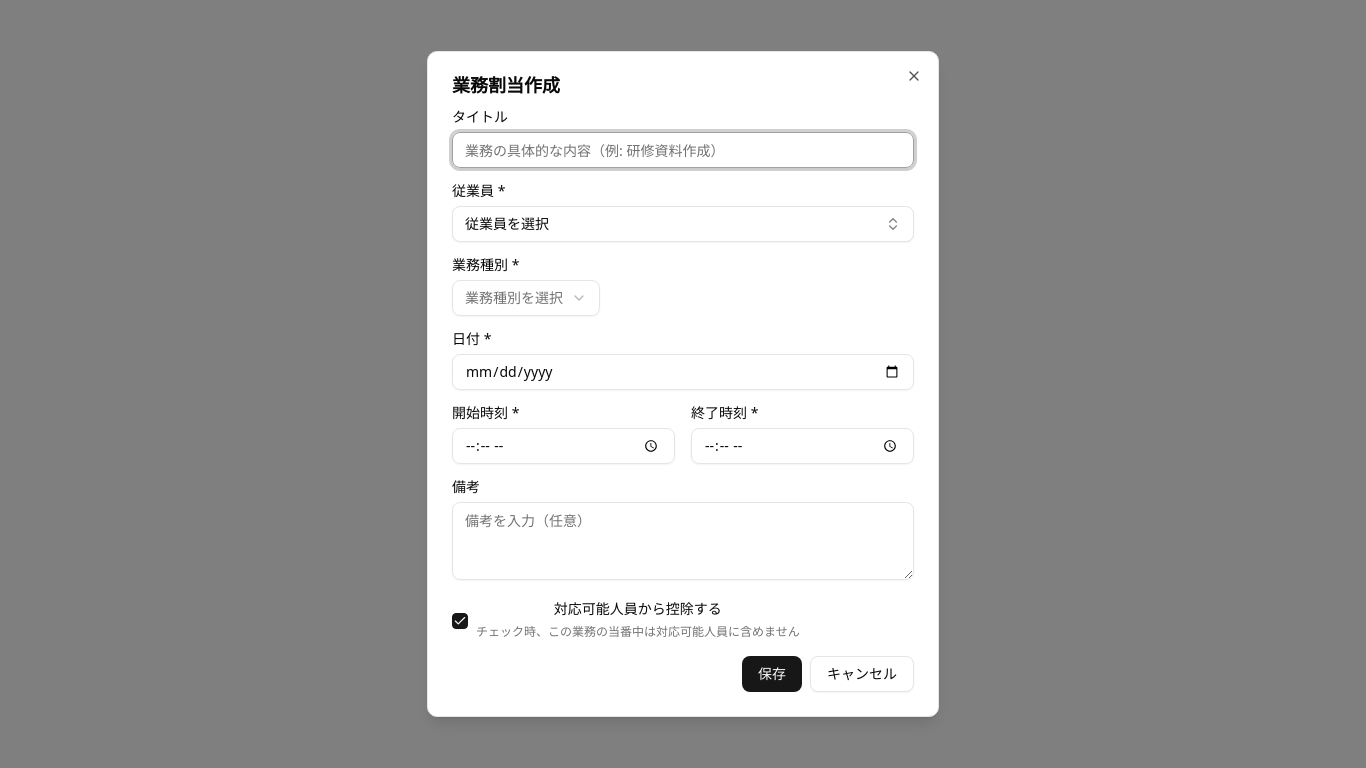
Scenario: DutyAssignmentForm - 業務種別選択時のフィールド保護 › 【リグレッション】タイトル入力済み → 業務種別選択でタイトル保持
The image size is (1366, 768).
Type "ユーザー入力タイトル" into the field labelled "タイトル".
click(683, 150); type("ユーザー入力タイトル")  # box x1=452 y1=132 x2=914 y2=168
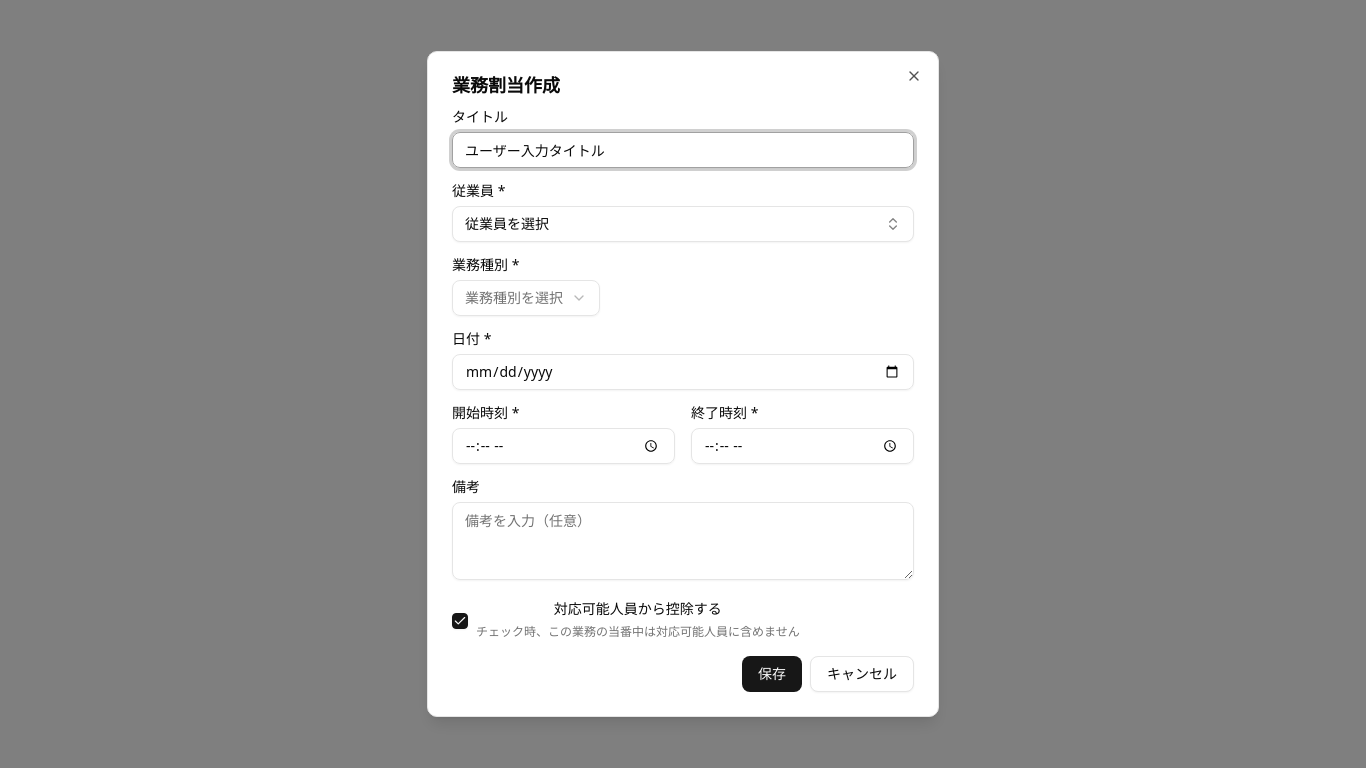
Click the dropdown labelled "業務種別を選択".
click(526, 298)  # box x1=452 y1=280 x2=600 y2=316
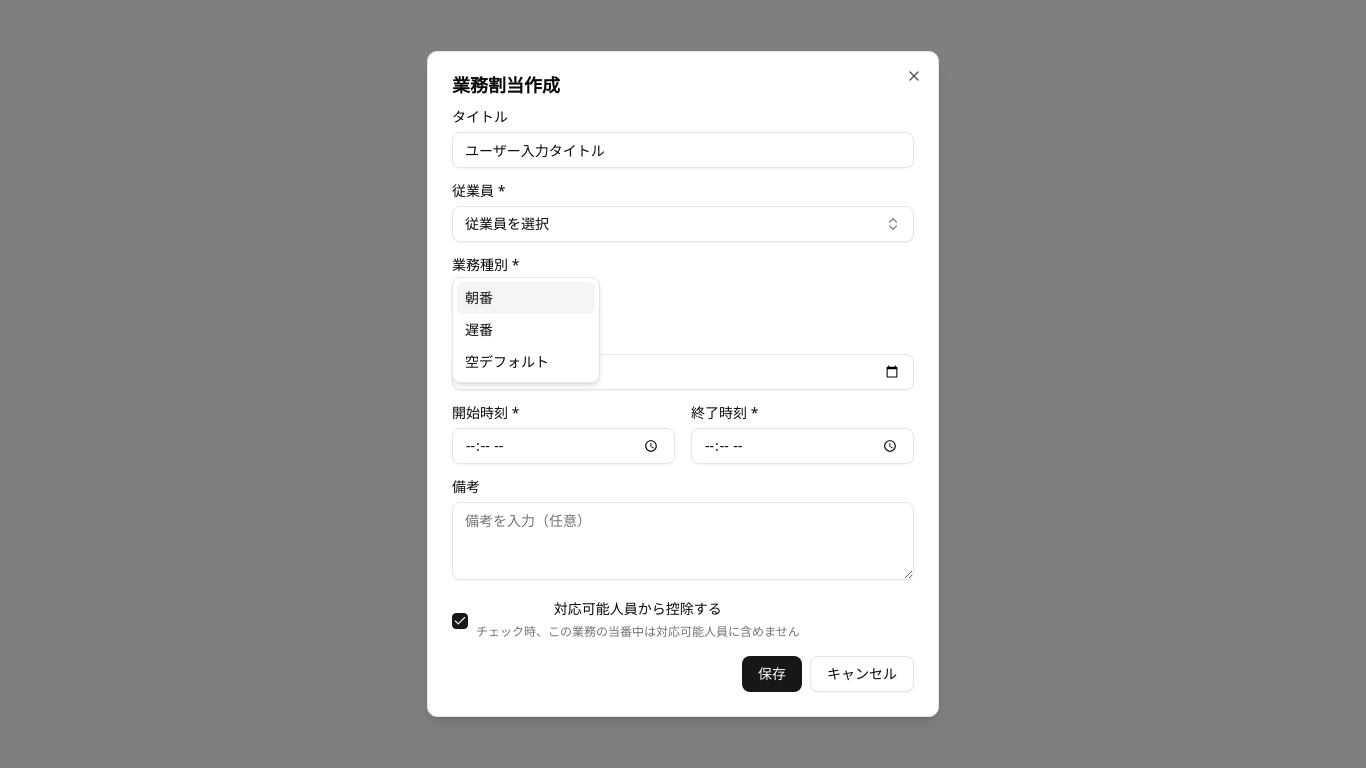
Click the option "朝番".
click(526, 298)  # box x1=457 y1=282 x2=595 y2=314
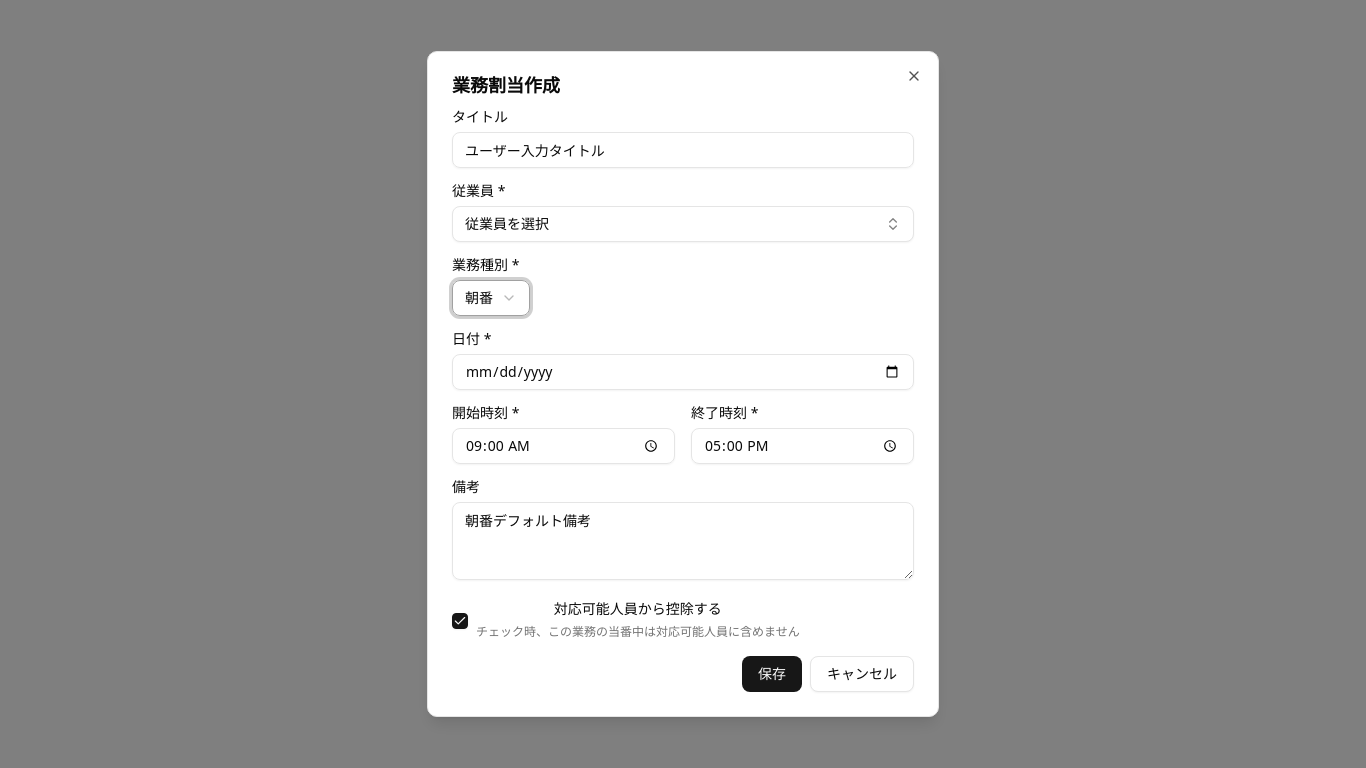
Expected: the time field labelled "開始時刻 *" holds "09:00", x1=452 y1=428 x2=675 y2=464
